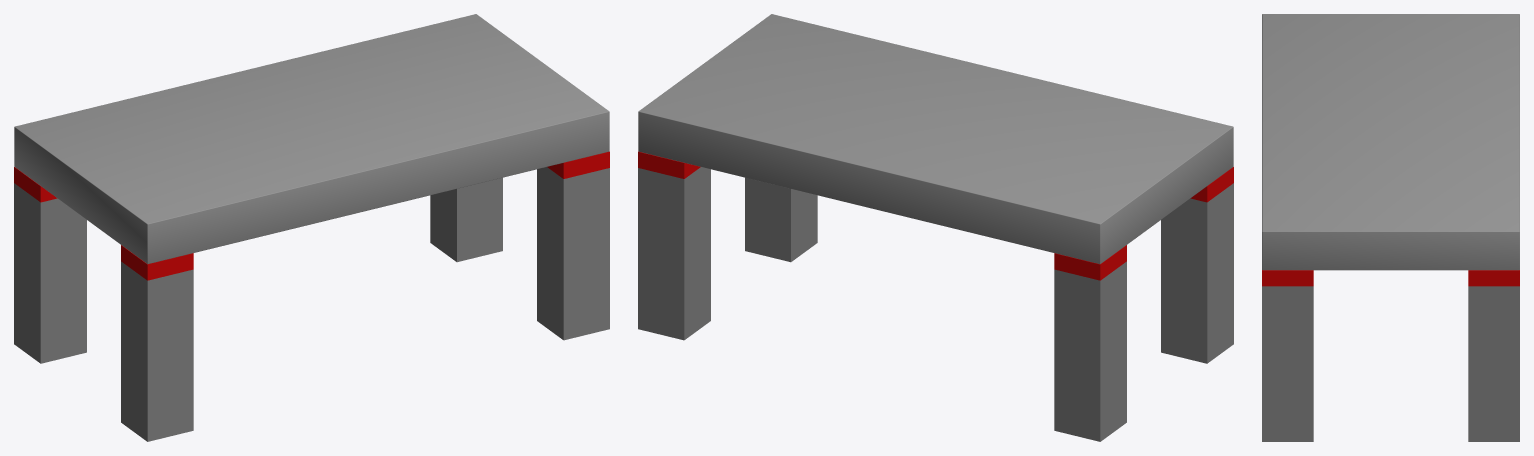
The model's file is sweethome3d-lucapresidente-coffee-table-52.glb.
3 views of the same model, side by side, from view 1: azimuth 30°, elevation 25°; view 2: azimuth 150°, elevation 25°; view 3: azimuth 270°, elevation 25° (orthographic). The views are drawn at different scales.
Visible parts, largest first — view 1: ChamferBox06_3, Box49_9, Box48_8, Box42_1, Box45_5, Box46_6, Box47_7, Box43_2; view 2: ChamferBox06_3, Box42_1, Box45_5, Box49_9, Box48_8, Box43_2, Box44_4, Box46_6; view 3: ChamferBox06_3, Box45_5, Box48_8, Box44_4, Box47_7.
Boxes of the visible parts, x1,y1,x2,y2 form: ChamferBox06_3: [14, 14, 609, 264]; Box49_9: [121, 261, 193, 441]; Box48_8: [537, 167, 609, 340]; Box42_1: [14, 183, 86, 363]; Box45_5: [430, 177, 502, 262]; Box46_6: [121, 245, 193, 280]; Box47_7: [547, 151, 609, 178]; Box43_2: [14, 167, 57, 202]; ChamferBox06_3: [638, 14, 1233, 264]; Box42_1: [1054, 261, 1126, 441]; Box45_5: [638, 167, 710, 340]; Box49_9: [1161, 183, 1233, 363]; Box48_8: [745, 177, 817, 262]; Box43_2: [1054, 245, 1126, 280]; Box44_4: [638, 151, 700, 178]; Box46_6: [1190, 167, 1233, 202]; ChamferBox06_3: [1262, 14, 1519, 270]; Box45_5: [1468, 286, 1519, 441]; Box48_8: [1262, 286, 1313, 441]; Box44_4: [1468, 270, 1519, 286]; Box47_7: [1262, 270, 1313, 286].
Bounding box in the file's own units: 60 × 27 × 30.
